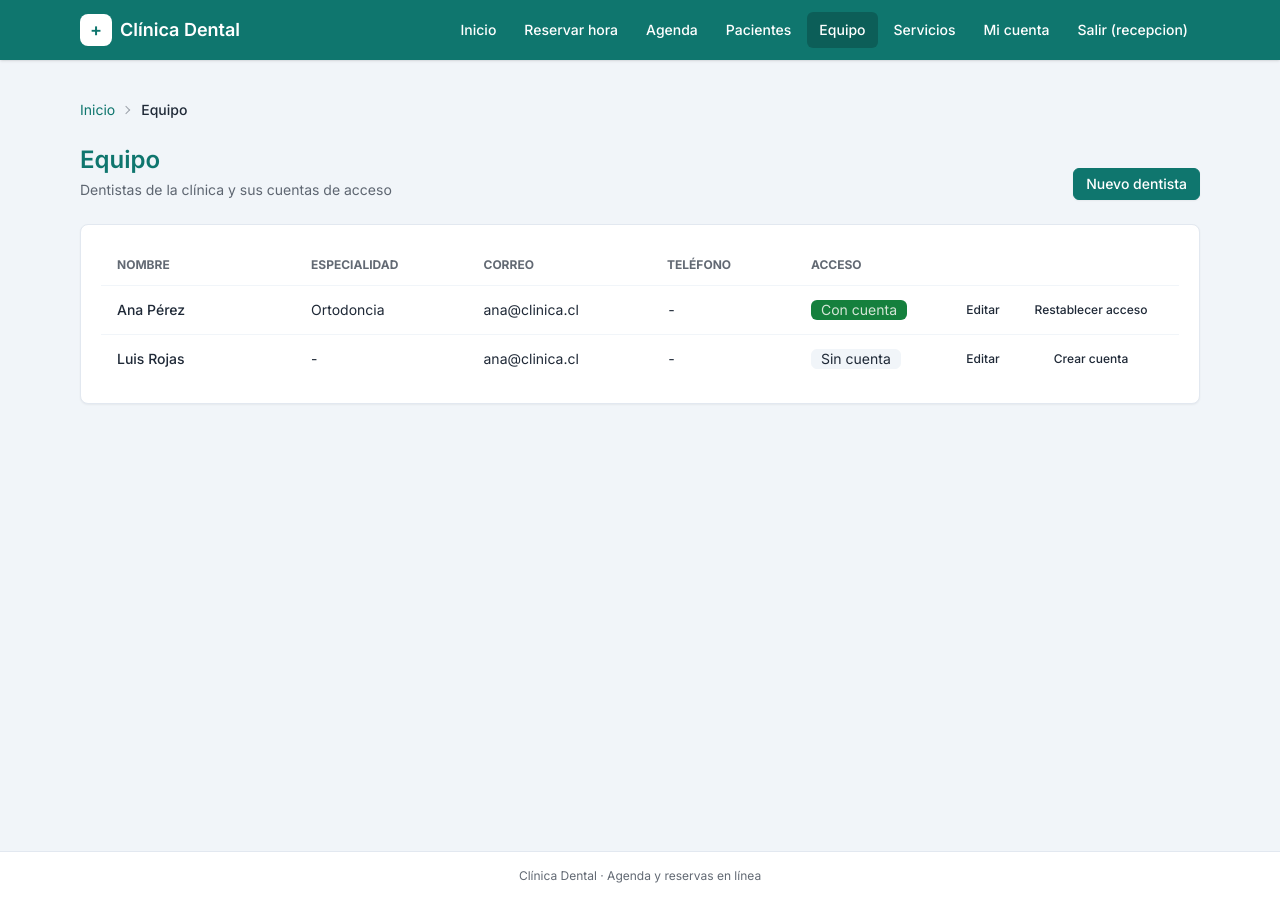
Equipo › edita a un dentista y muestra los errores del servidor
Expected: the text "Ana Pérez" is shown, x1=101 y1=286 x2=295 y2=334
Click the button "Editar" in the row of "Ana Pérez": [983, 310] box x1=951 y1=298 x2=1015 y2=322
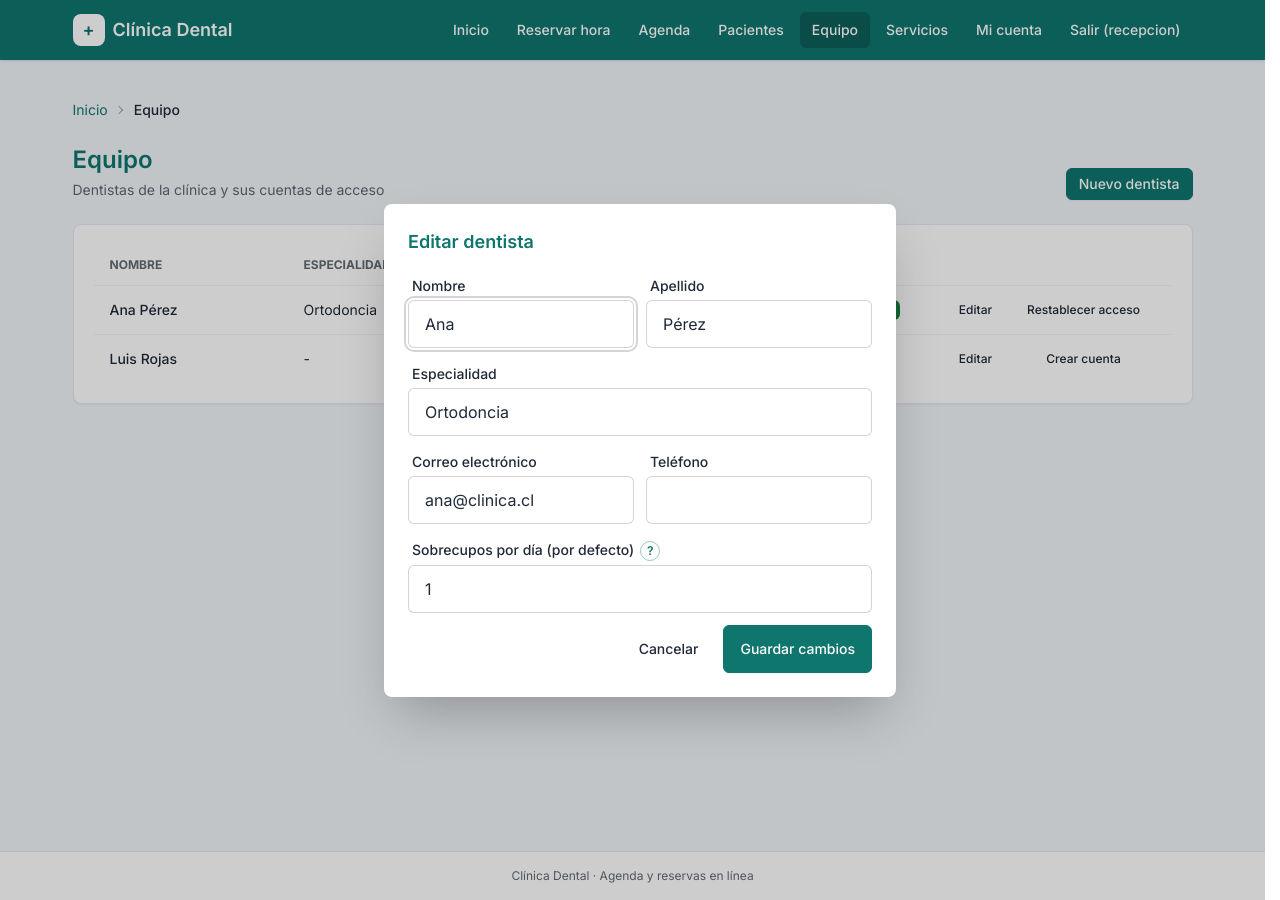
Expected: the field labelled "Especialidad" holds "Ortodoncia", x1=408 y1=388 x2=872 y2=436
Replace the text in the field labelled "Nombre" with "Anita": [521, 324] box x1=408 y1=300 x2=634 y2=348
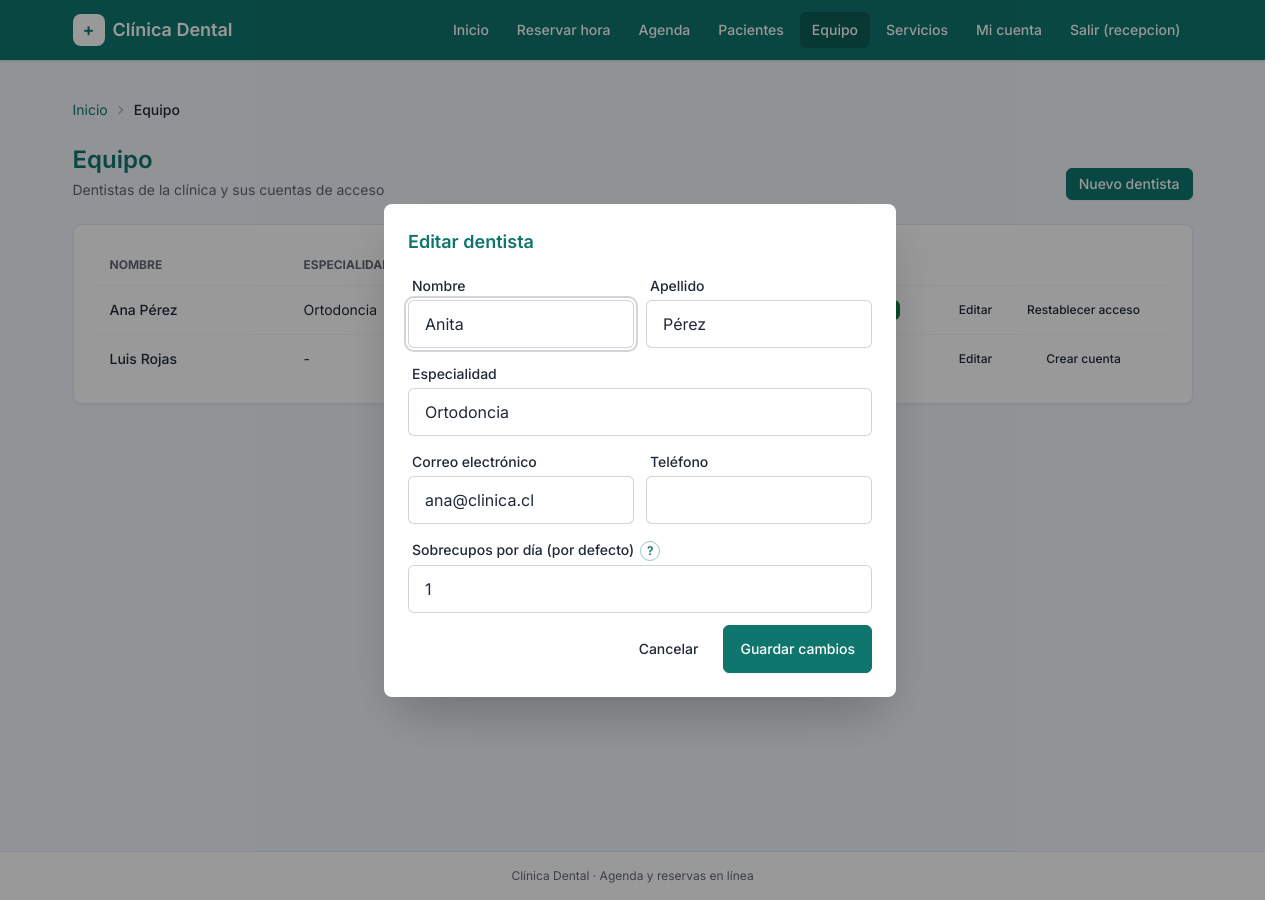
Click the button "Guardar cambios": [798, 648] box x1=724 y1=624 x2=872 y2=672
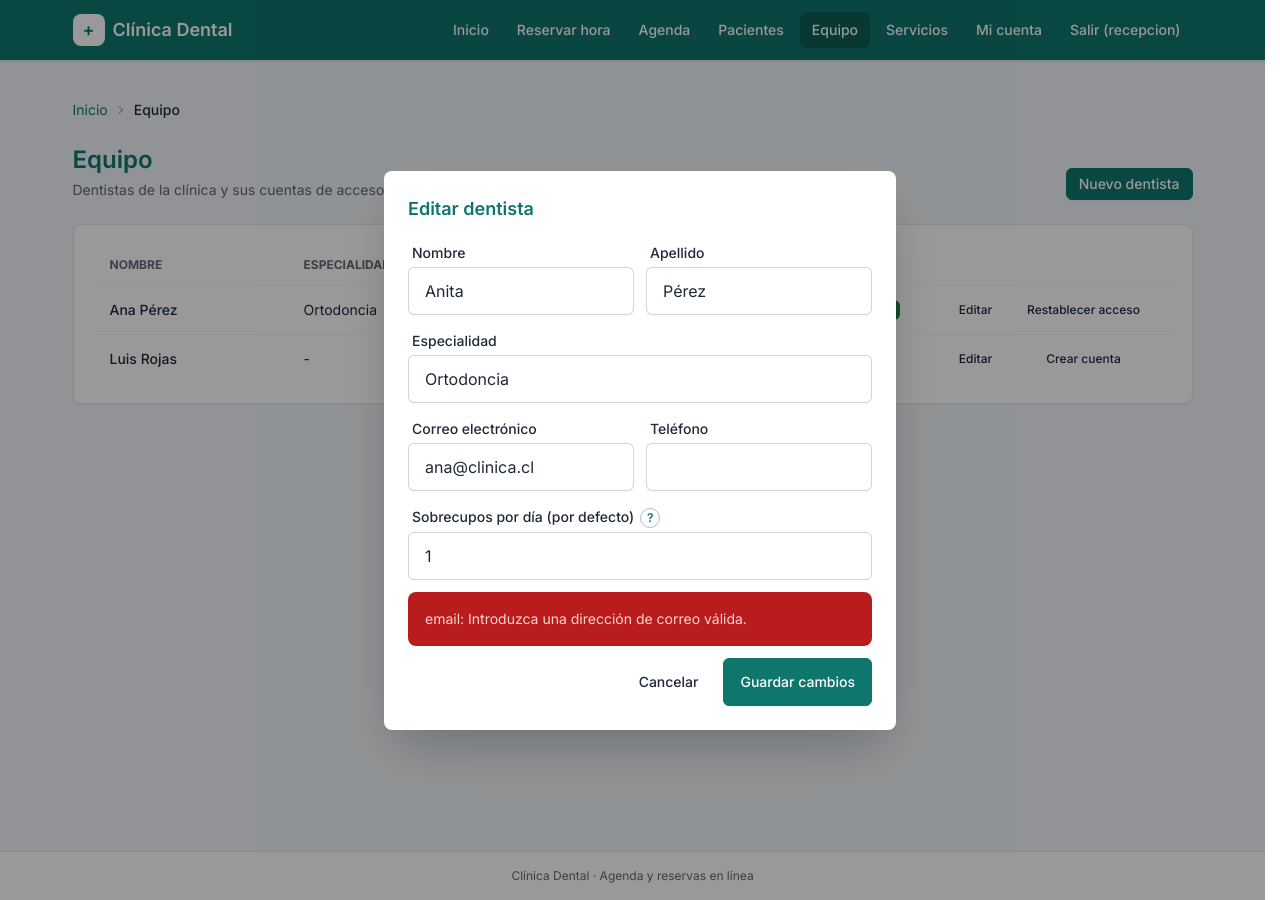
Expected: the text "email: Introduzca una dirección de correo válida." is shown, x1=425 y1=608 x2=747 y2=628
Click the button "Guardar cambios": [798, 682] box x1=724 y1=658 x2=872 y2=706
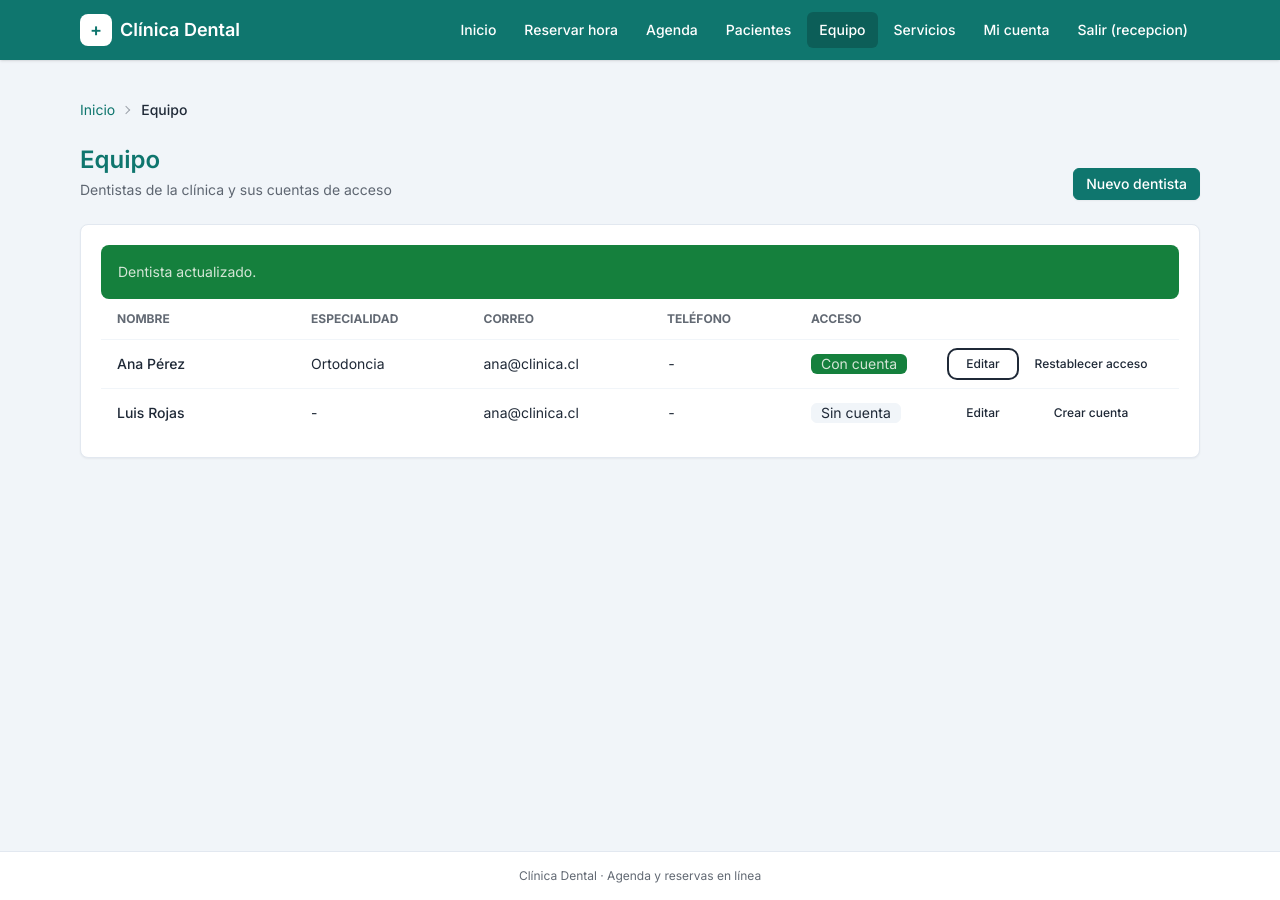
Expected: the text "Dentista actualizado." is shown, x1=118 y1=262 x2=256 y2=282
